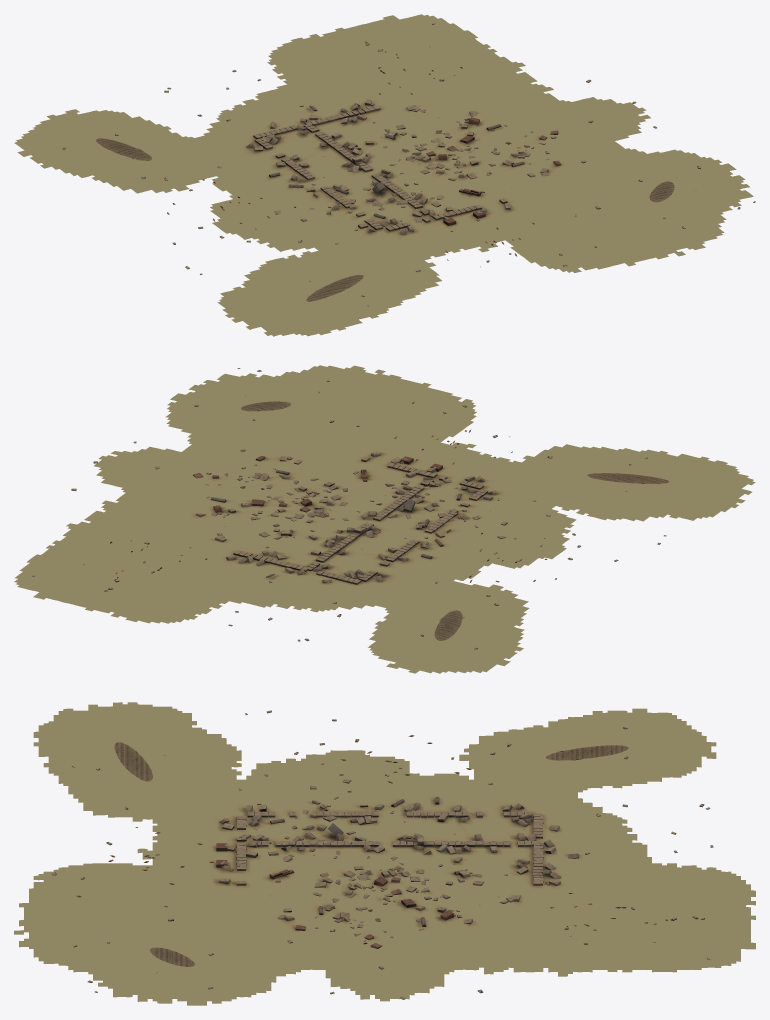
3 views of the same model, one above another, from view 1: azimuth 30°, elevation 25°; view 2: azimuth 150°, elevation 25°; view 3: azimuth 270°, elevation 25° (orthographic). The views are drawn at different scales.
Visible parts, largest first — view 1: sediment, temple, blocks, wrecks, anchors; view 2: sediment, temple, blocks, wrecks, anchors; view 3: sediment, temple, blocks, wrecks, anchors.
Part boxes in pixels (x1,y1,x2,y2): sediment: [14, 14, 753, 336]; temple: [246, 99, 510, 235]; blocks: [274, 105, 593, 223]; wrecks: [96, 138, 692, 301]; anchors: [63, 23, 755, 306]; sediment: [14, 365, 755, 673]; temple: [226, 452, 496, 584]; blocks: [155, 449, 507, 549]; wrecks: [241, 395, 668, 640]; anchors: [32, 368, 666, 649]; sediment: [14, 702, 755, 1005]; temple: [219, 802, 560, 885]; blocks: [239, 779, 520, 969]; wrecks: [114, 742, 628, 973]; anchors: [51, 710, 713, 999].
Size of the model in its own units: 145 by 3.89 by 150.
Materials: 5 (3 with a texture image).
